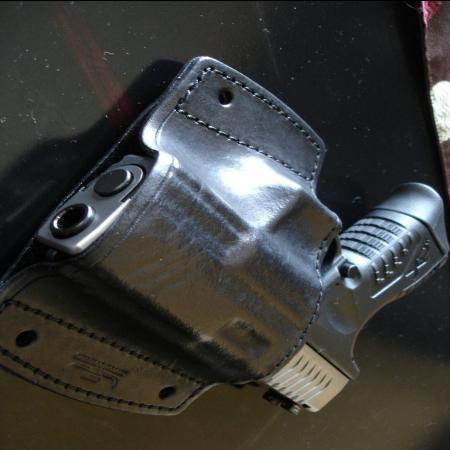Pistol: (38, 146, 449, 413)
